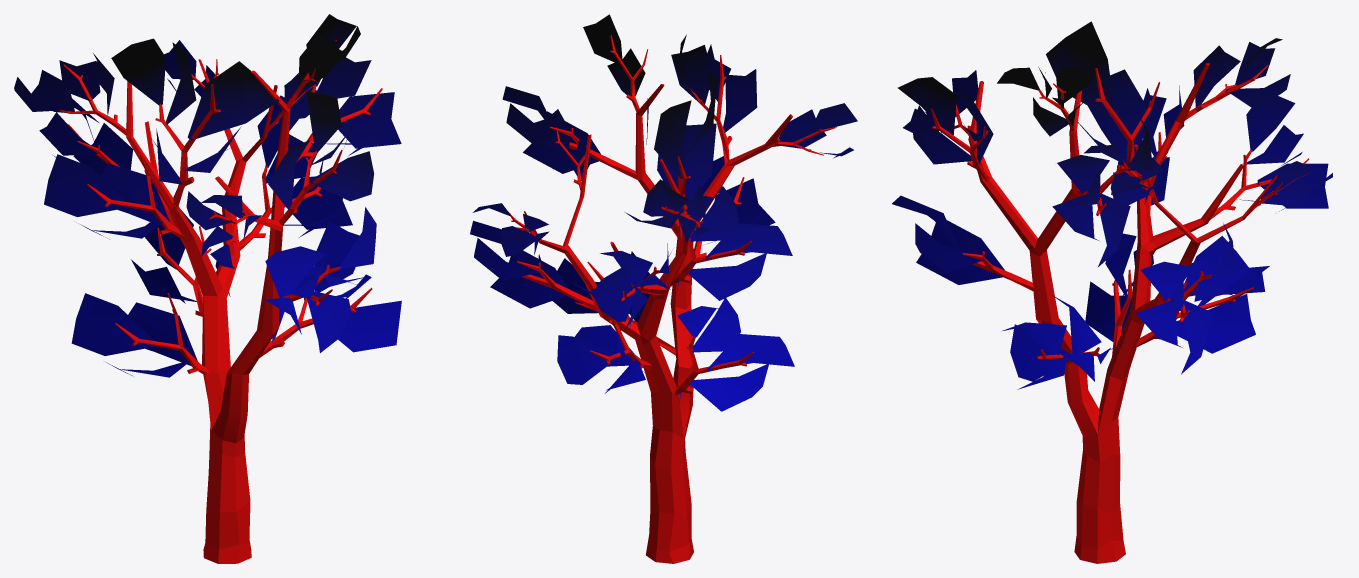
Rendered from SM_Tree_Generic_Dead_01.glb.
3 renders of one model, left to right at view 1: azimuth 30°, elevation 25°; view 2: azimuth 150°, elevation 25°; view 3: azimuth 270°, elevation 25°, orthographic. The views are drawn at different scales.
Parts seen in each view (by area): view 1: SM_Tree_Generic_Dead_01; view 2: SM_Tree_Generic_Dead_01; view 3: SM_Tree_Generic_Dead_01.
Part boxes in pixels (<box>): SM_Tree_Generic_Dead_01: <box>14,14,401,563</box>; SM_Tree_Generic_Dead_01: <box>470,14,857,563</box>; SM_Tree_Generic_Dead_01: <box>892,21,1332,563</box>.
Bounding box in the file's own units: 3.56 × 5.33 × 4.11.
